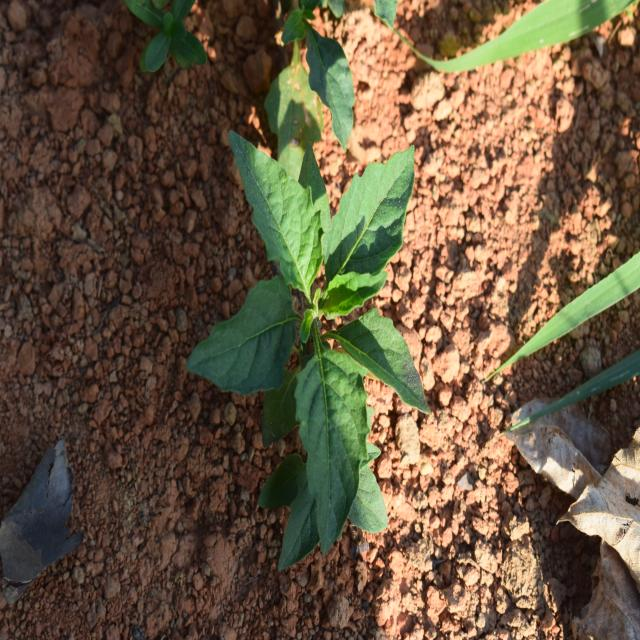Black_nightshade: (196, 119, 427, 568)
